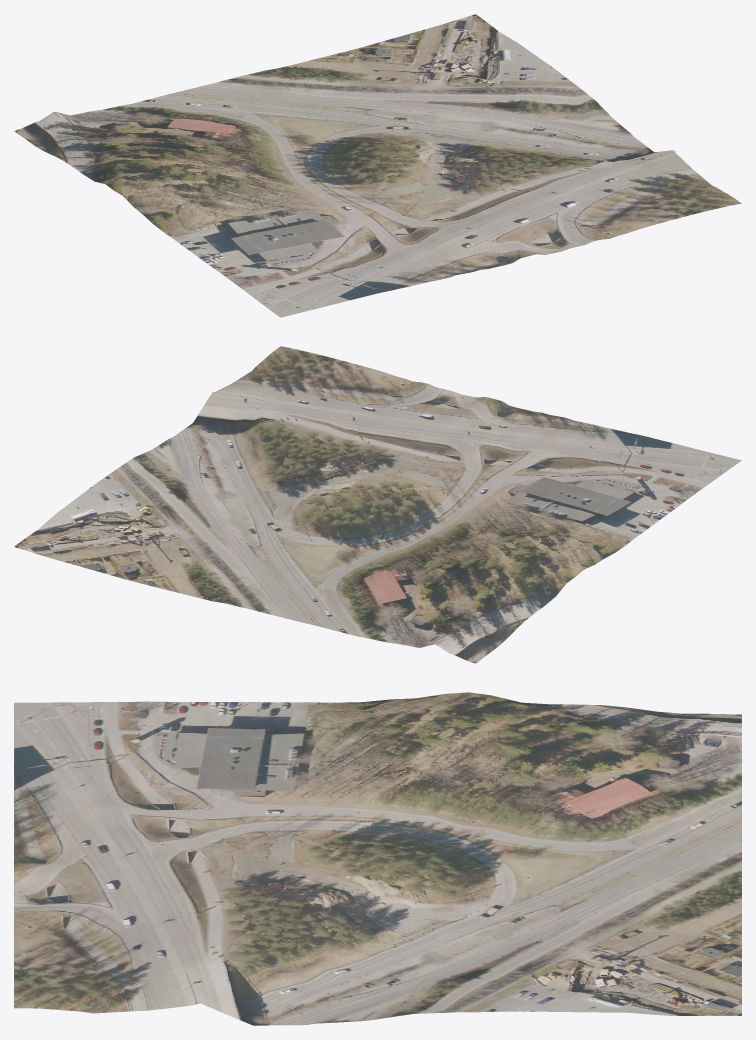
The model's file is CM_Terrain_24489434_6821432.fbx.
3 views of the same model, one above another, from view 1: azimuth 30°, elevation 25°; view 2: azimuth 150°, elevation 25°; view 3: azimuth 270°, elevation 25° (orthographic). The views are drawn at different scales.
Parts seen in each view (by area): view 1: CM_Terrain_24489434_6821432_LOD0; view 2: CM_Terrain_24489434_6821432_LOD0; view 3: CM_Terrain_24489434_6821432_LOD0.
Part boxes in pixels (<box>): CM_Terrain_24489434_6821432_LOD0: <box>14,14,741,317</box>; CM_Terrain_24489434_6821432_LOD0: <box>14,346,741,663</box>; CM_Terrain_24489434_6821432_LOD0: <box>14,692,741,1025</box>.
Size of what is drawn, in the model's own units: 205 by 10.88 by 205.
